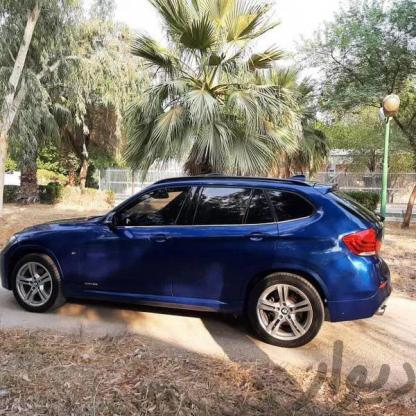Car: (0, 151, 397, 348)
